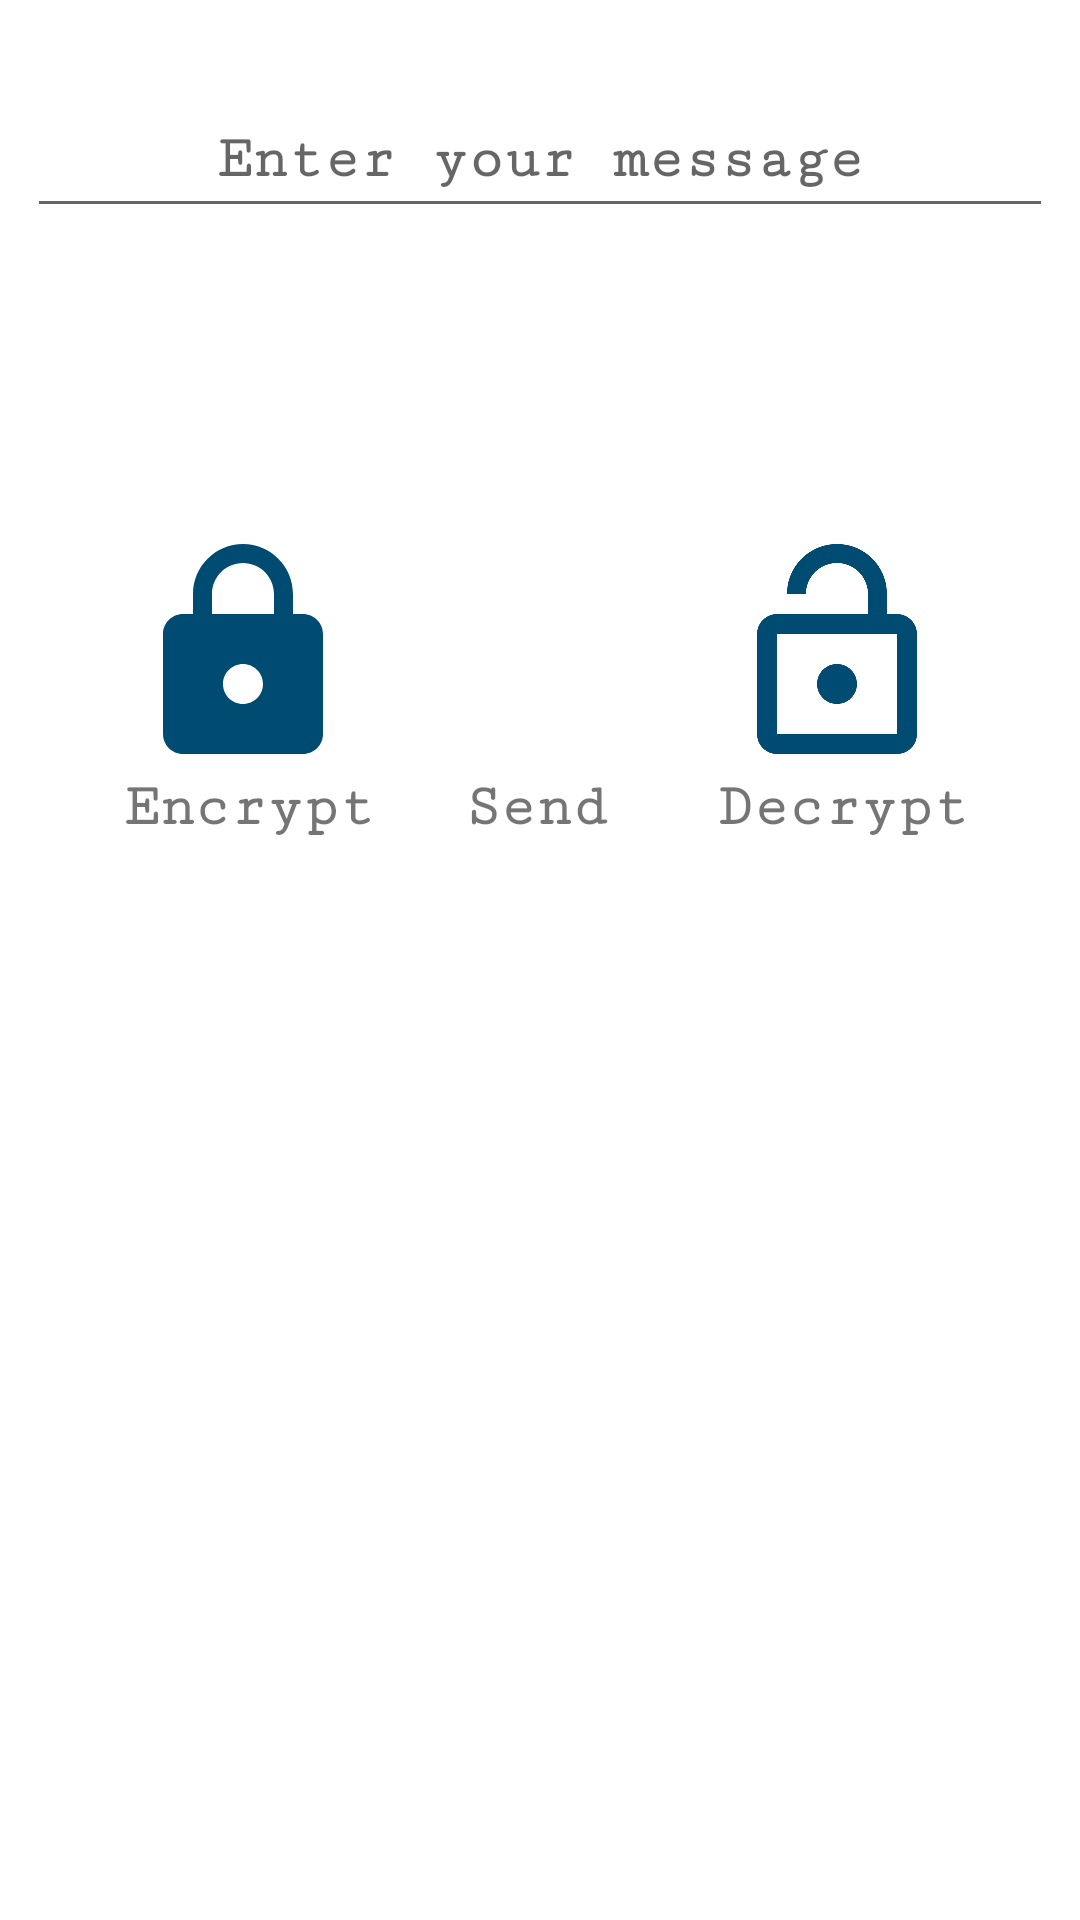

Screen size 1080px x 1920px. Icon name, then its center in pixels as (x=x, y=y):
lock: (x=243, y=649)
lock open: (x=837, y=649)
